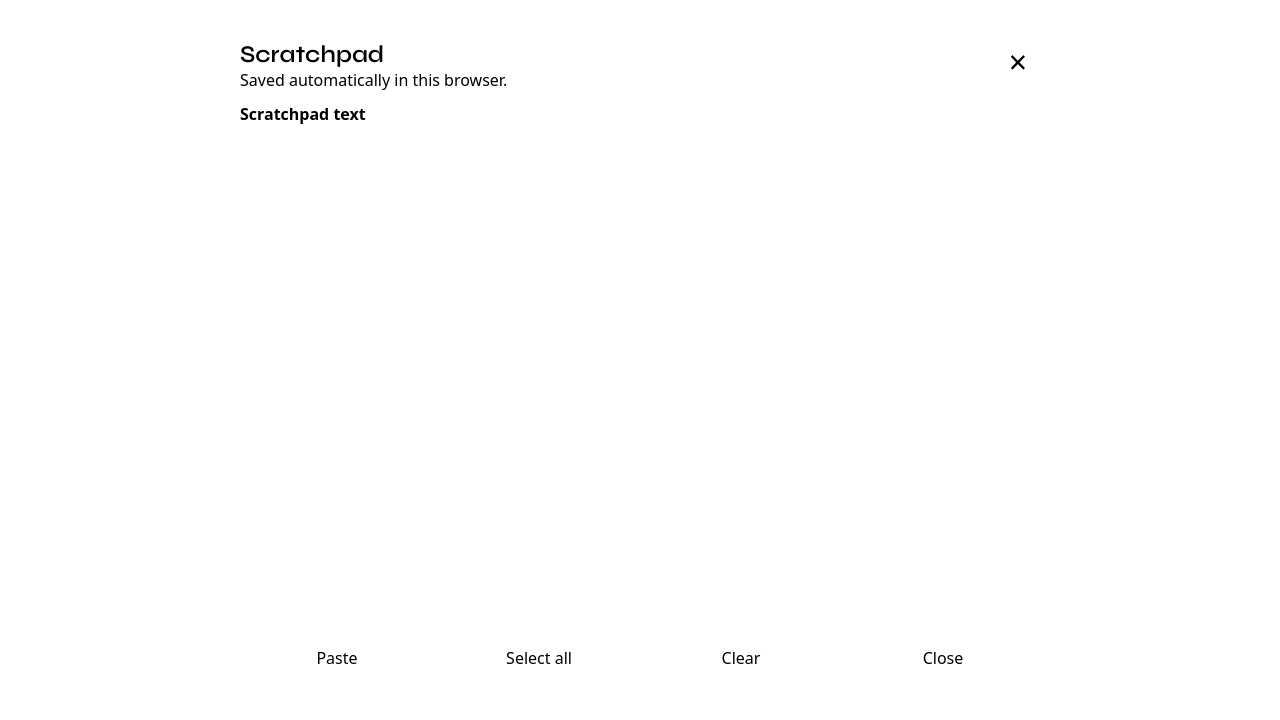
Test case: Scratchpad › falls back to native paste when clipboard permission is unavailable
Click the button "Paste" at (337, 658), box [240,636,434,680]
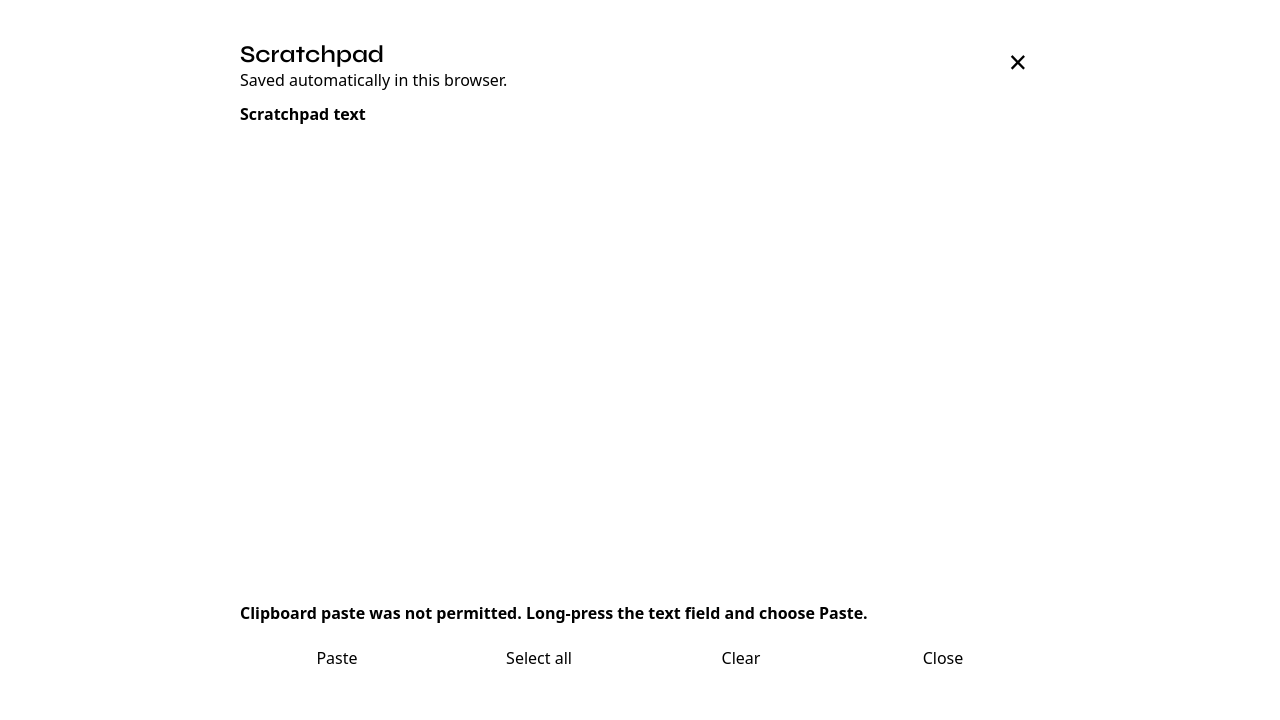
Check: the message shows "Long-press the text field and choose Paste.", box [240,602,868,624]
